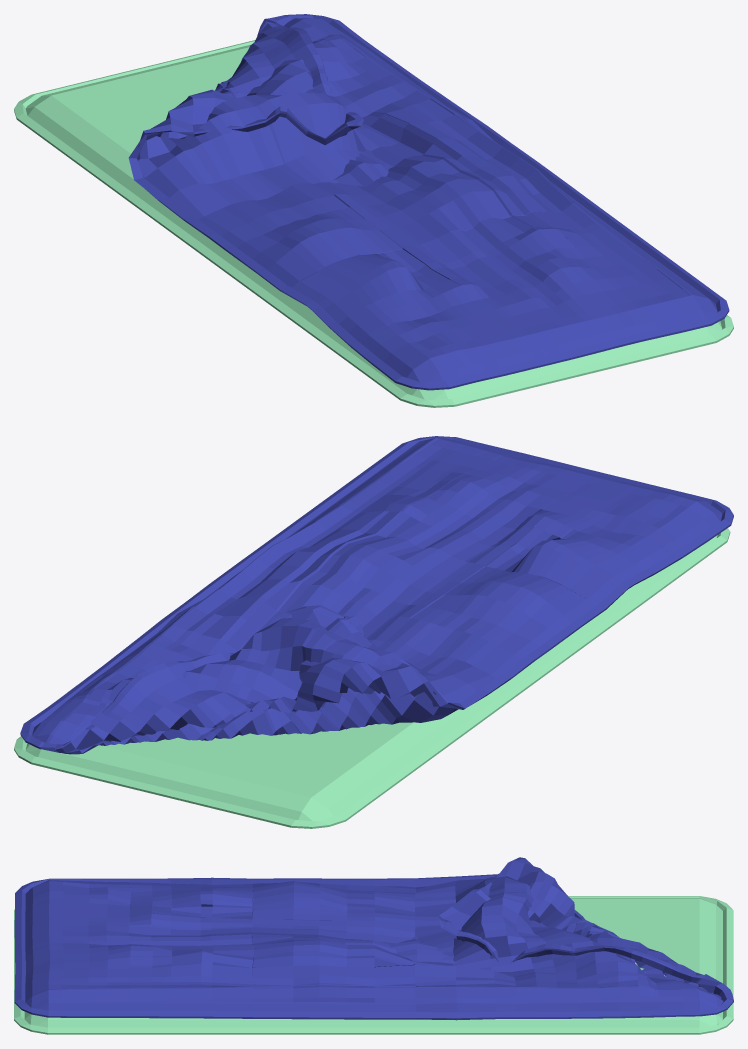
File: sleeping_bag_saraskau.glb
3 views of the same model, one above another, from view 1: azimuth 30°, elevation 25°; view 2: azimuth 150°, elevation 25°; view 3: azimuth 270°, elevation 25° (orthographic). The views are drawn at different scales.
Visible parts, largest first — view 1: cobertor, saco; view 2: cobertor, saco; view 3: cobertor, saco.
Part boxes in pixels (left/top/right/bottom): cobertor: left=128, top=14, right=729, bottom=390; saco: left=14, top=40, right=733, bottom=407; cobertor: left=20, top=436, right=733, bottom=754; saco: left=14, top=528, right=730, bottom=828; cobertor: left=14, top=857, right=733, bottom=1020; saco: left=14, top=896, right=733, bottom=1034.
Bounding box in the file's own units: 0.9131 × 0.2315 × 2.
